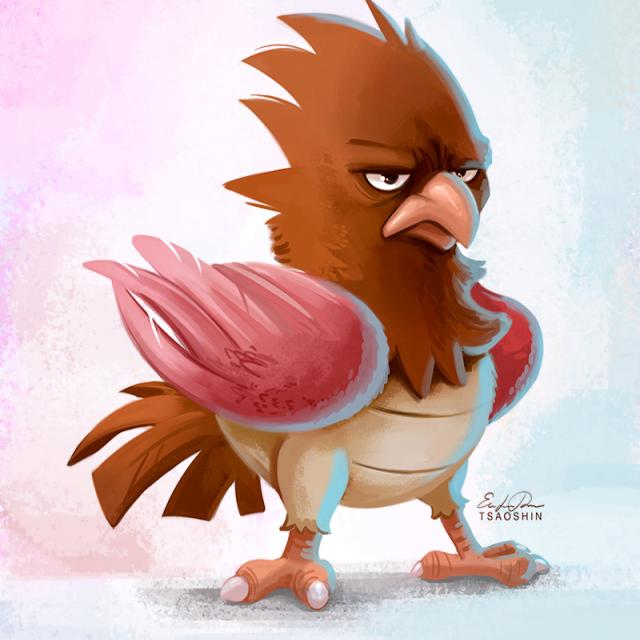Spearow: (190, 51, 576, 624)
